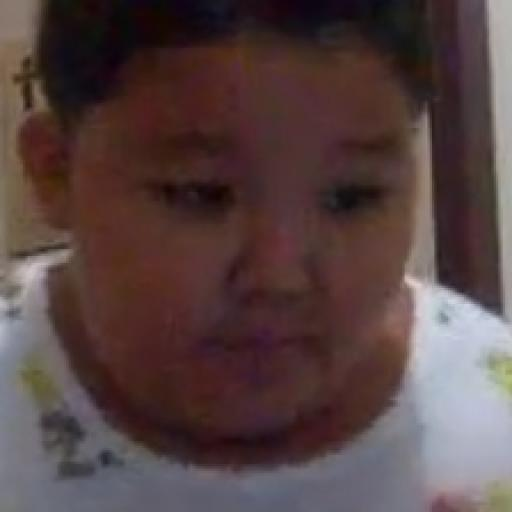Autism: (74, 6, 511, 469)
